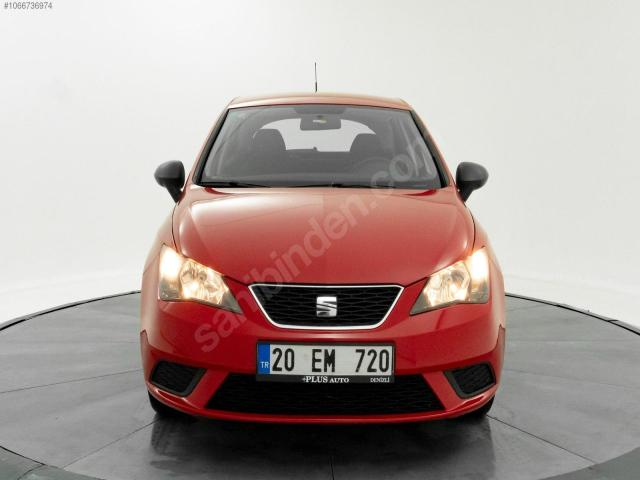plaka: (257, 342, 394, 383)
